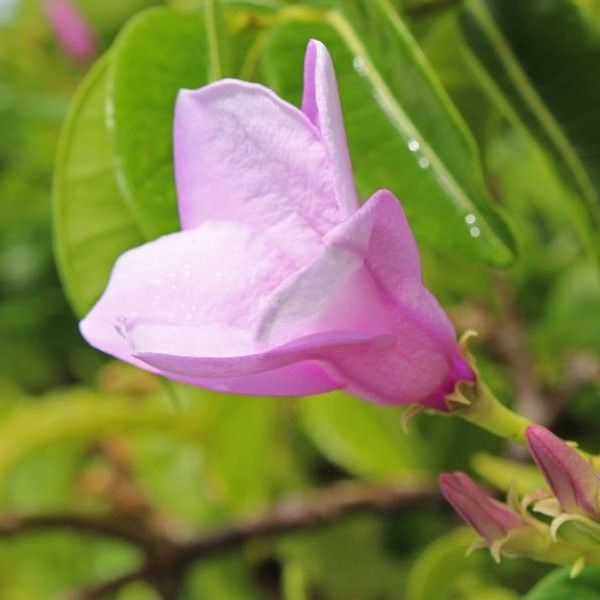obstacle: (37, 15, 564, 562)
